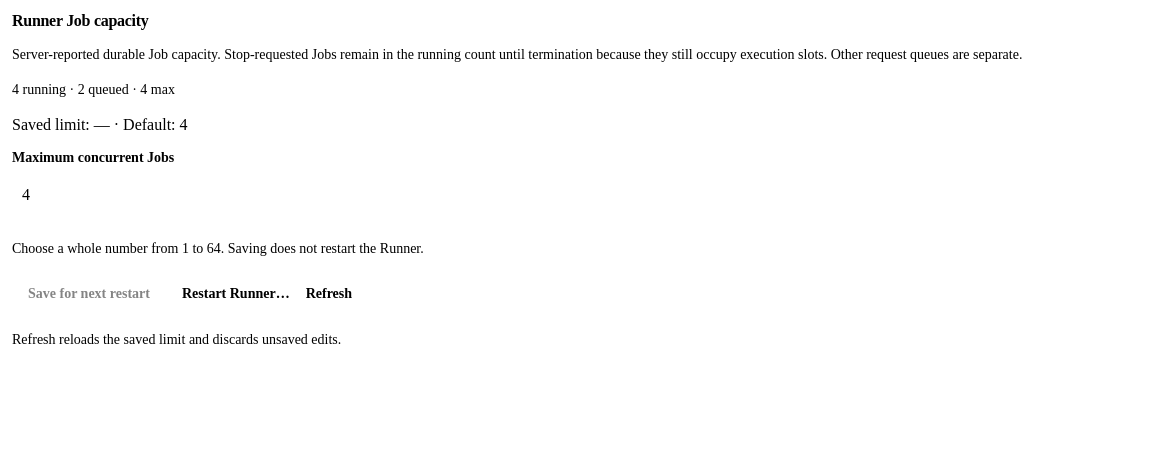
Test: local Runner concurrency settings › keeps the original edit fence during background refreshes
Replace the text in the number field with "12" at (588, 195), box [12,173,1164,217]
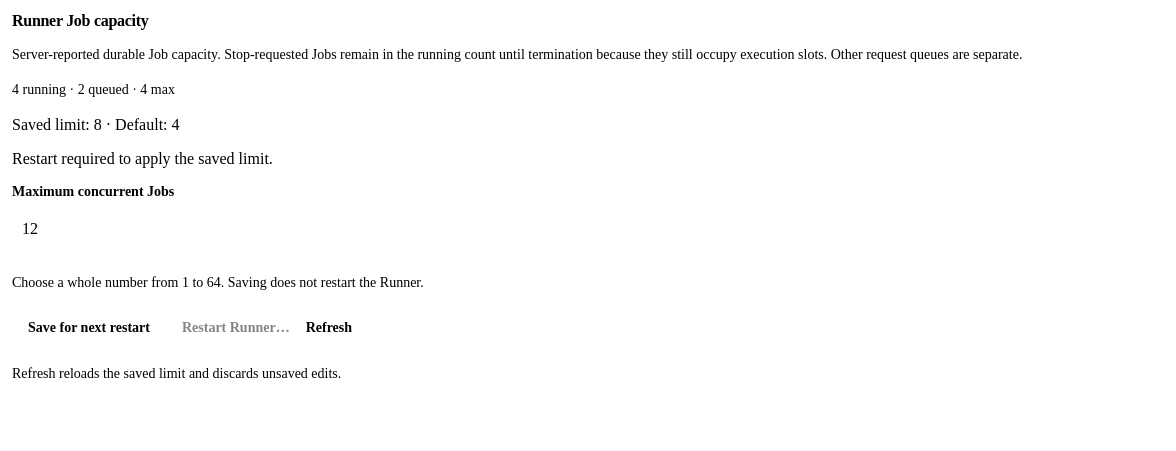
Result: the text "Saved limit: 8 · Default: 4" is shown at [12,116,180,133]
Click the button "Save for next restart" at (89, 328), box [12,307,166,349]
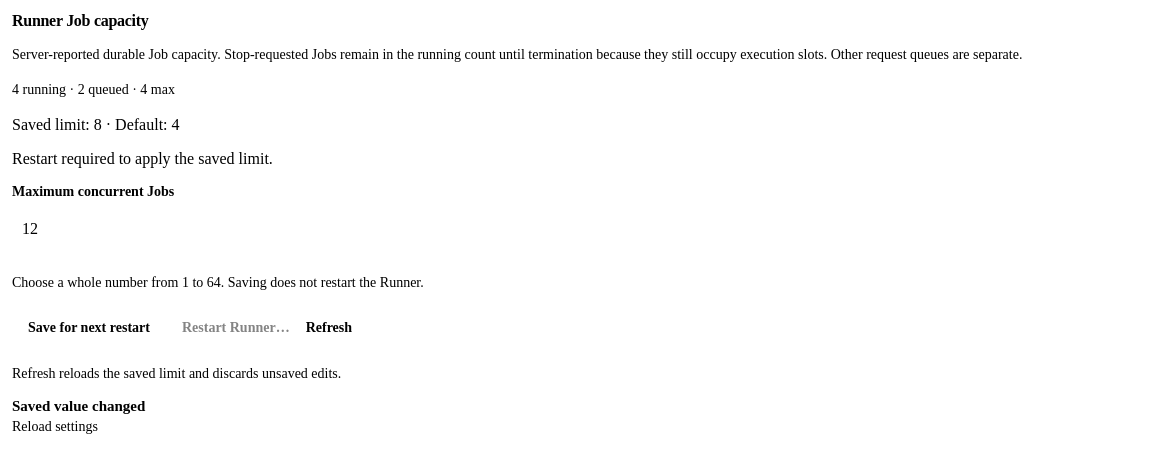
Result: the message "Saved value changed Reload settings" is shown at [12,398,145,434]
